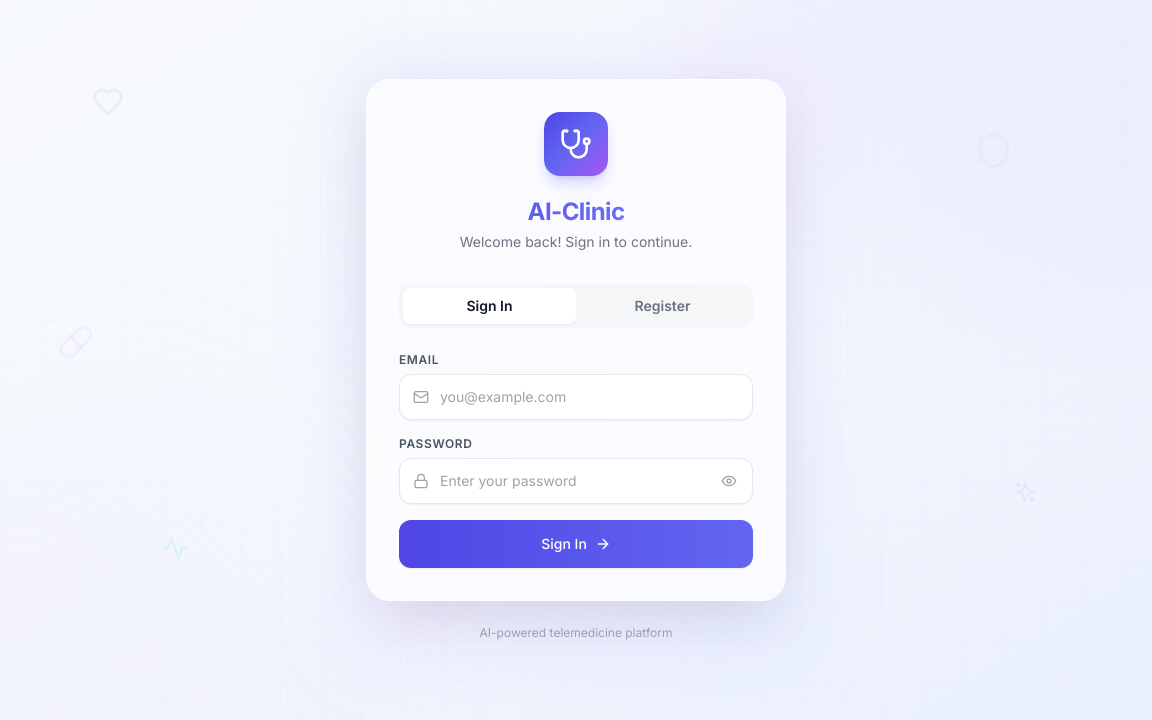
Test: Password strength indicator › should show "Weak" for very short passwords (< 4 chars)
Click the button "Register" at (662, 306), box [576, 288, 749, 324]
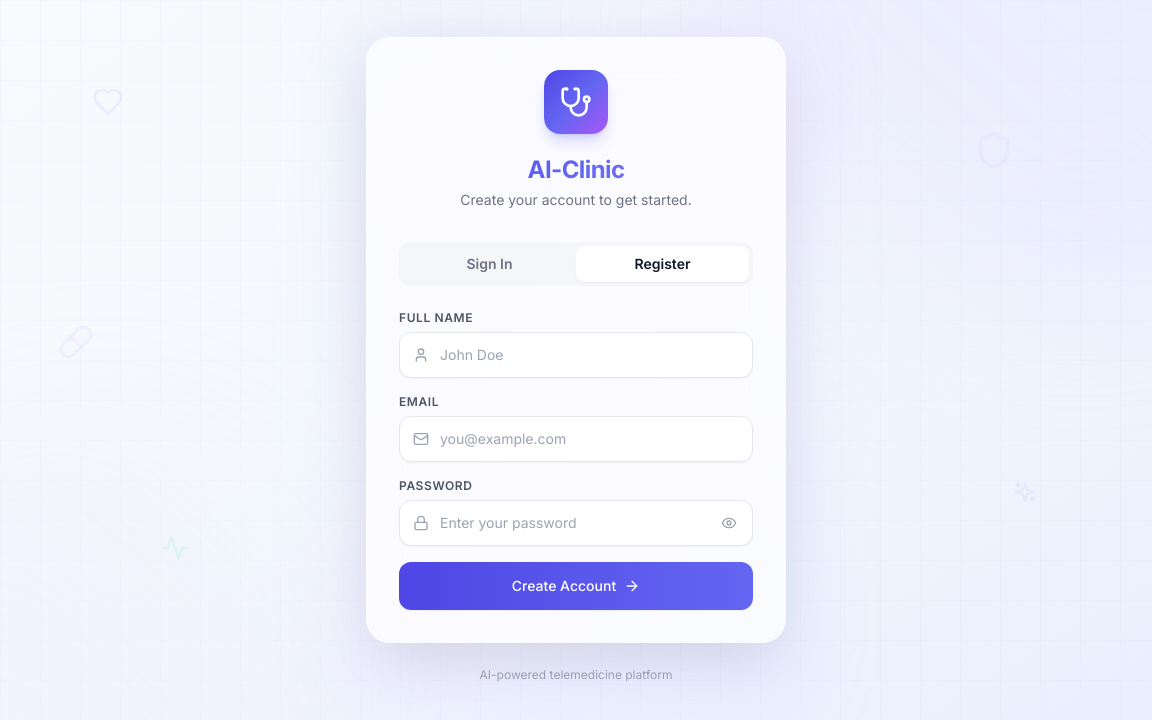
Type "ab1" into the password field labelled "Password" at (576, 523), box [399, 500, 753, 546]
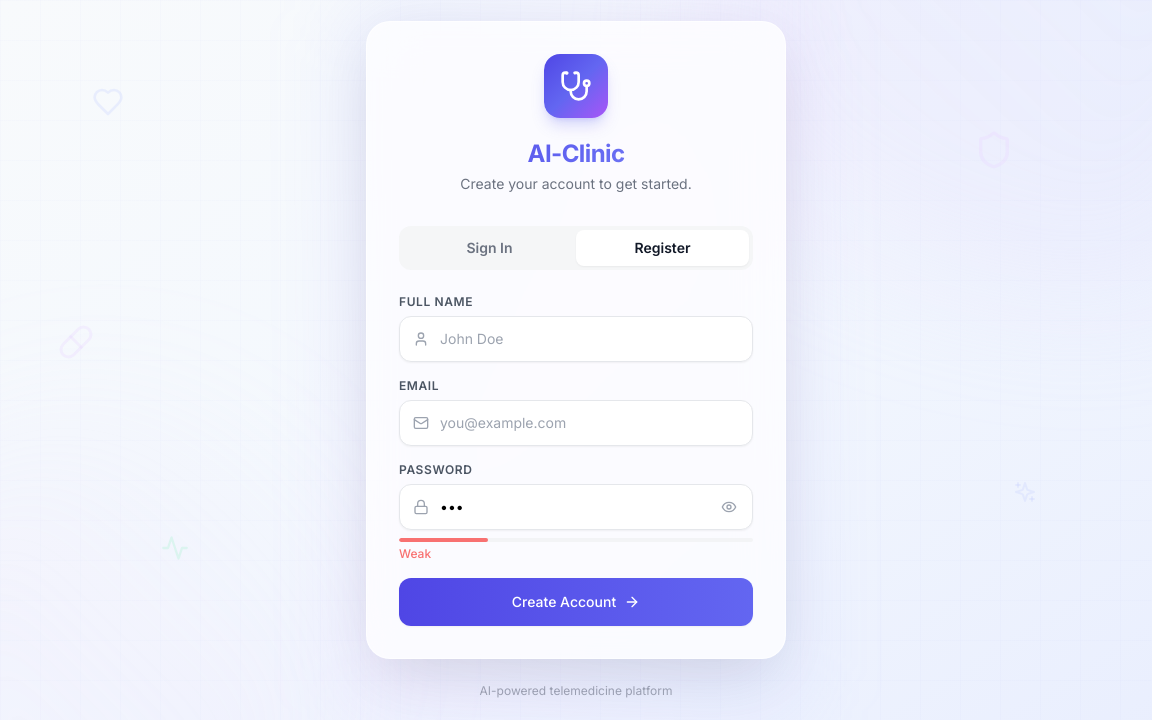
Result: the text "Weak" is shown at [399, 546, 431, 561]
